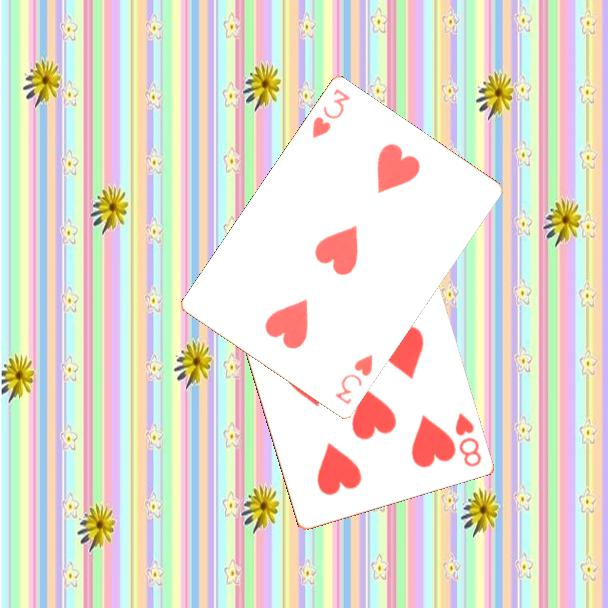h03: (308, 85, 354, 142), (331, 351, 376, 408)
h08: (451, 409, 484, 469)
